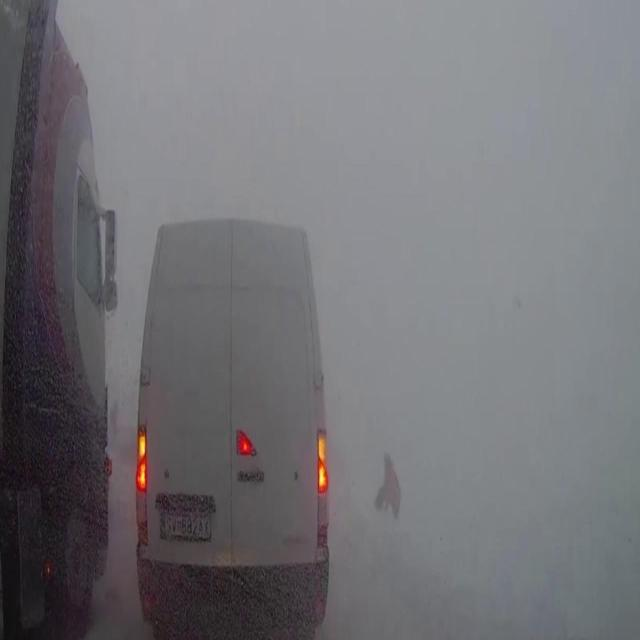Truck: (0, 0, 123, 640)
Van: (132, 207, 332, 640)
